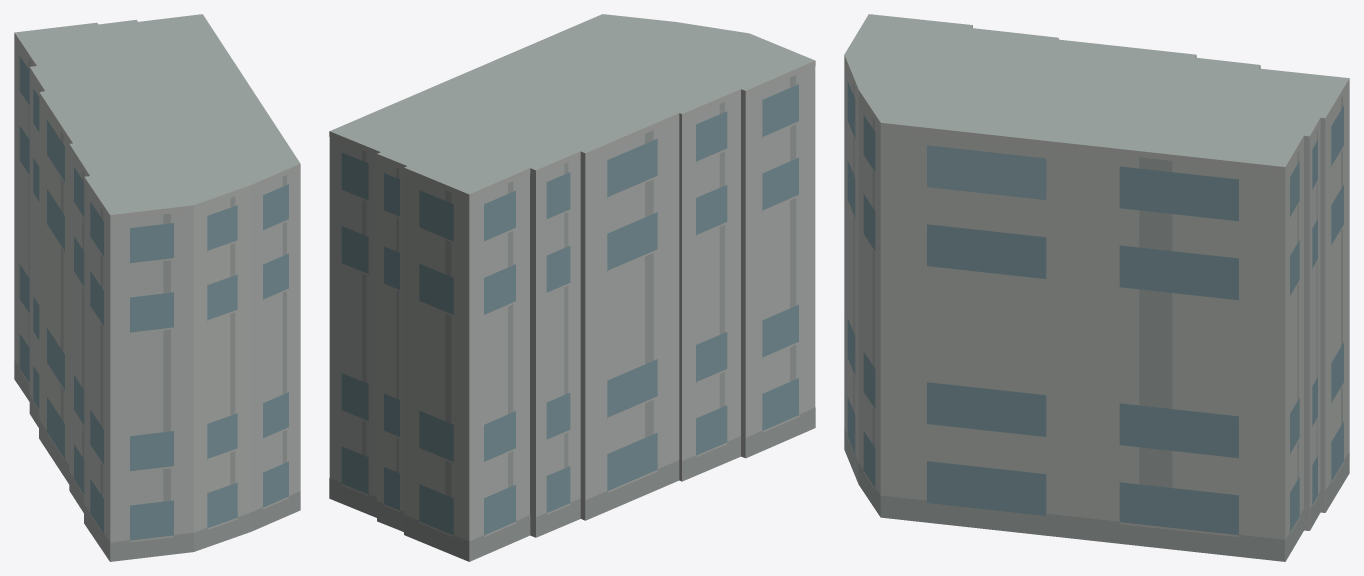
Rendered from survey-upis-33019572.glb.
The picture shows the model from 3 angles, left to right: view 1: azimuth 30°, elevation 25°; view 2: azimuth 150°, elevation 25°; view 3: azimuth 270°, elevation 25°; orthographic projection. The views are drawn at different scales.
Visible parts, largest first — view 1: survey-upis-33019572.tmp; view 2: survey-upis-33019572.tmp; view 3: survey-upis-33019572.tmp.
Boxes of the visible parts, x1=… form: survey-upis-33019572.tmp: x1=14, y1=14, x2=300, y2=561; survey-upis-33019572.tmp: x1=329, y1=14, x2=815, y2=561; survey-upis-33019572.tmp: x1=844, y1=14, x2=1349, y2=561.
Size of the model in its own units: 12.78 by 15.35 by 17.82.
